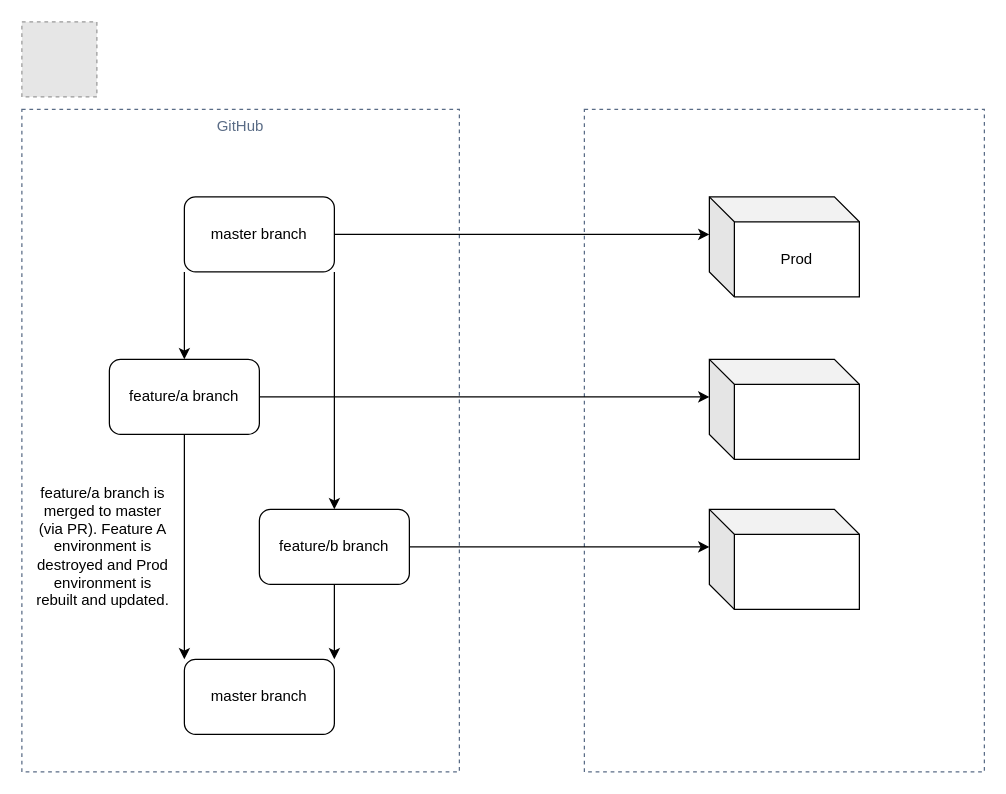
Image size: 1006x794. Some labels were removed from this diagram. Grey dashed boxes stand in for pictures. Each missing label, with the box of its shape:
Environments: (583, 108, 984, 772)
Feature A (Ephemeral): (708, 358, 859, 459)
Feature B (Ephemeral): (708, 508, 859, 609)
